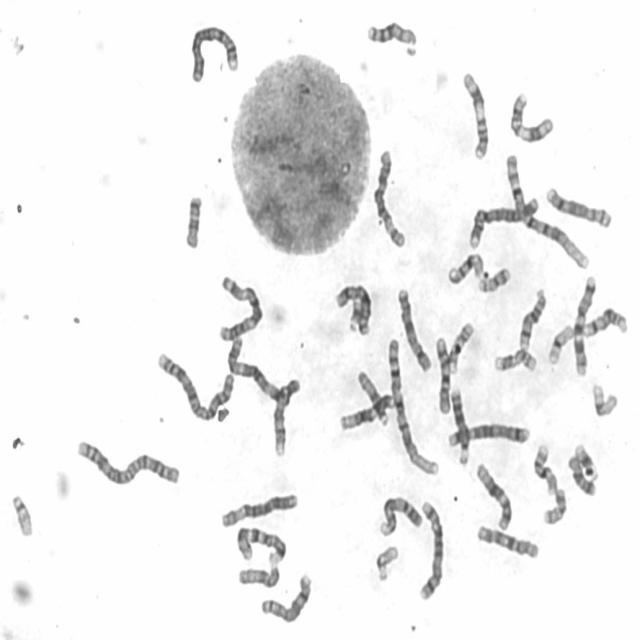A1: (502, 147, 592, 271), (384, 333, 440, 477)
A2: (153, 347, 235, 423), (72, 434, 182, 488)
A3: (225, 332, 292, 408), (214, 270, 264, 344)
B4: (466, 192, 541, 250), (187, 20, 240, 84)
B5: (415, 496, 446, 602), (444, 418, 533, 450)
C10: (473, 520, 541, 562), (432, 331, 452, 416)
C11: (459, 67, 490, 161), (506, 88, 555, 145)
C12: (472, 458, 514, 532), (337, 389, 396, 433)
C6: (370, 145, 408, 250), (218, 489, 299, 530)
C7: (570, 271, 599, 378), (232, 521, 288, 566)
C8: (542, 181, 613, 231), (257, 569, 313, 625)
C9: (270, 374, 302, 459), (376, 492, 424, 538)
D13: (446, 382, 472, 468), (364, 16, 418, 51)
D14: (516, 284, 548, 350), (580, 303, 629, 339)
D15: (354, 366, 392, 428), (235, 562, 282, 590)
E16: (438, 250, 485, 294), (530, 441, 559, 496)
E17: (445, 320, 472, 378), (491, 344, 538, 375)
E18: (565, 450, 598, 498), (181, 191, 203, 250)
F19: (544, 321, 576, 366), (588, 379, 620, 418)
F20: (474, 262, 512, 295), (540, 484, 568, 527)
G21: (572, 439, 600, 482), (344, 294, 363, 340)
G22: (8, 488, 34, 539), (372, 541, 400, 584)
X: (394, 283, 433, 373), (332, 280, 372, 338)
